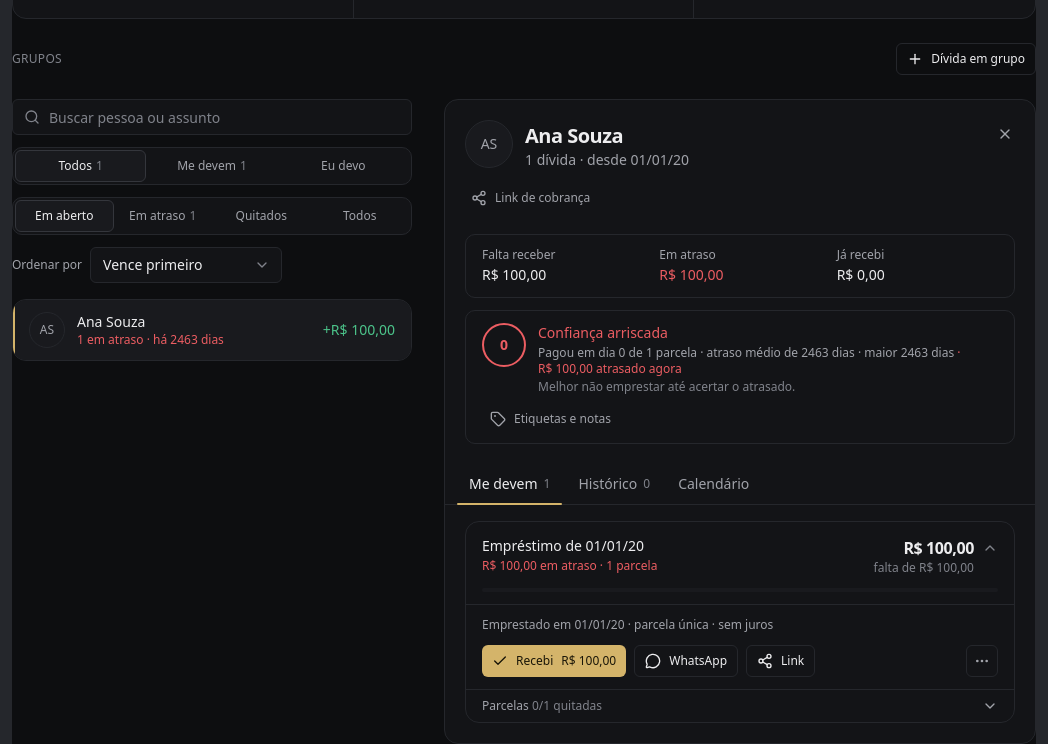
Pessoas: documentos › janela bloqueada mostra aviso
(page scrolled)
Step 1. Click the button named "Mais ações" → click(982, 661), box [966,645,998,677]
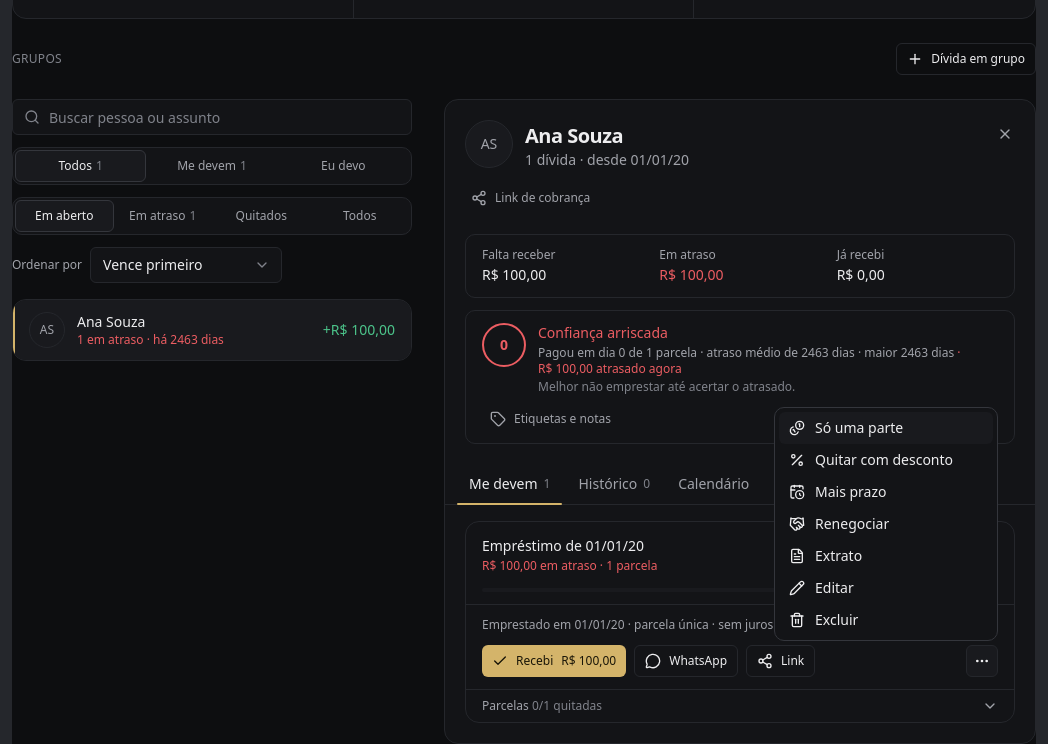
Step 2. Click the menu item "Extrato" → click(886, 556), box [779,540,993,572]
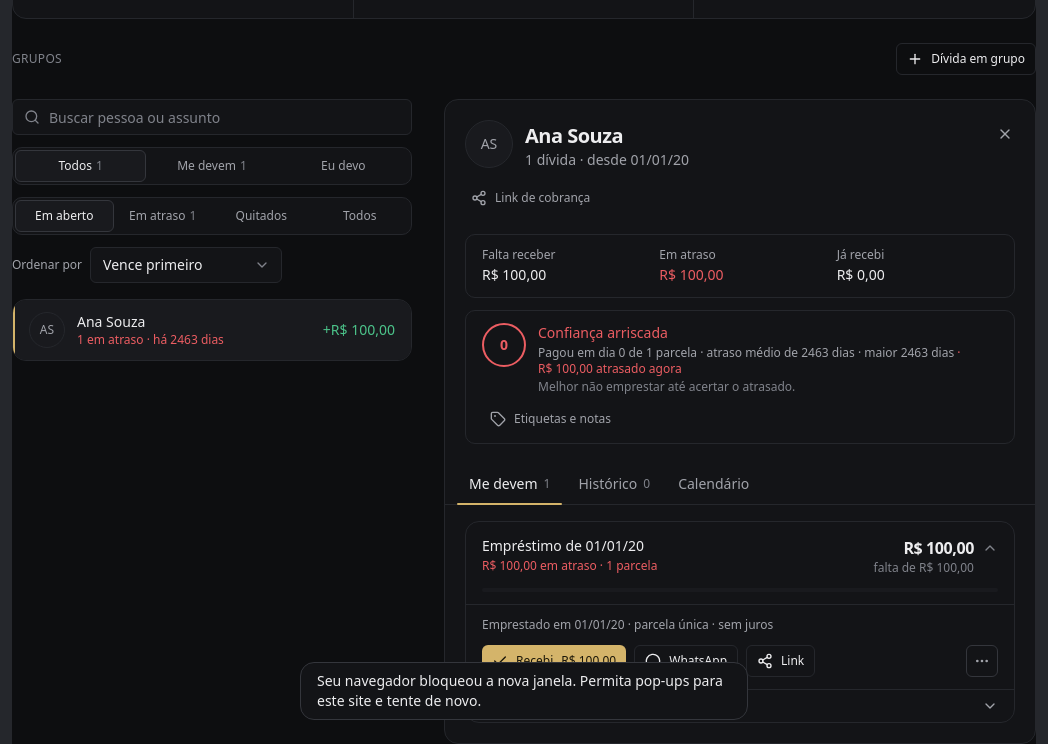
Expected: the text "bloqueou a nova janela" is shown, [317,671,723,710]
